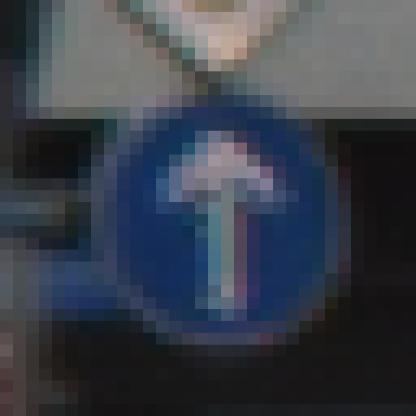AheadOnly: (79, 72, 352, 358)
